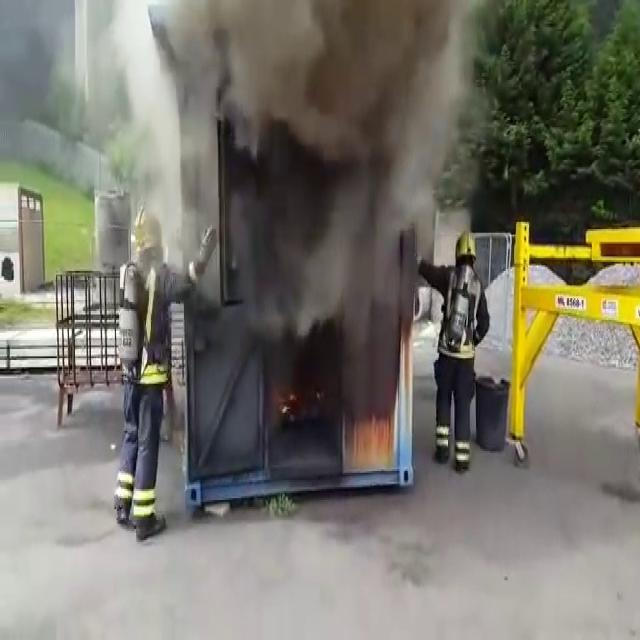Smoke: (198, 16, 416, 344)
